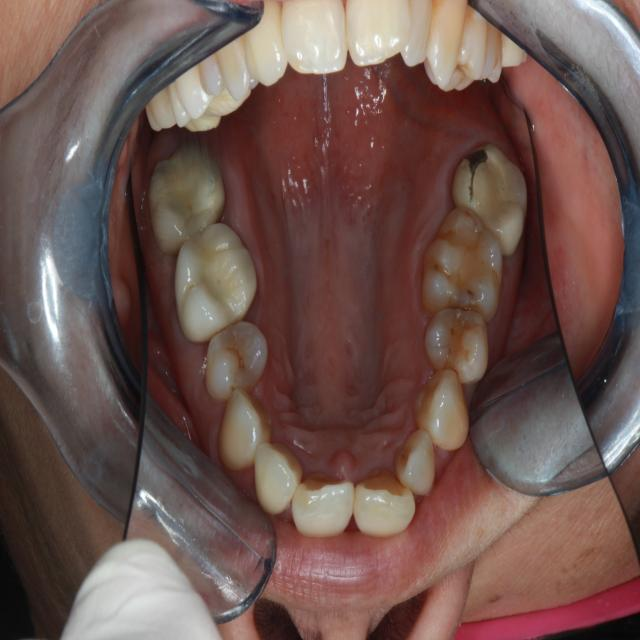tooth: (413, 197, 513, 337), (170, 220, 264, 355), (443, 136, 532, 264), (145, 139, 234, 257), (420, 294, 495, 399), (407, 359, 477, 462), (209, 377, 277, 482), (200, 315, 274, 410), (287, 460, 362, 550), (354, 459, 419, 547), (247, 433, 306, 525), (390, 417, 440, 505)
